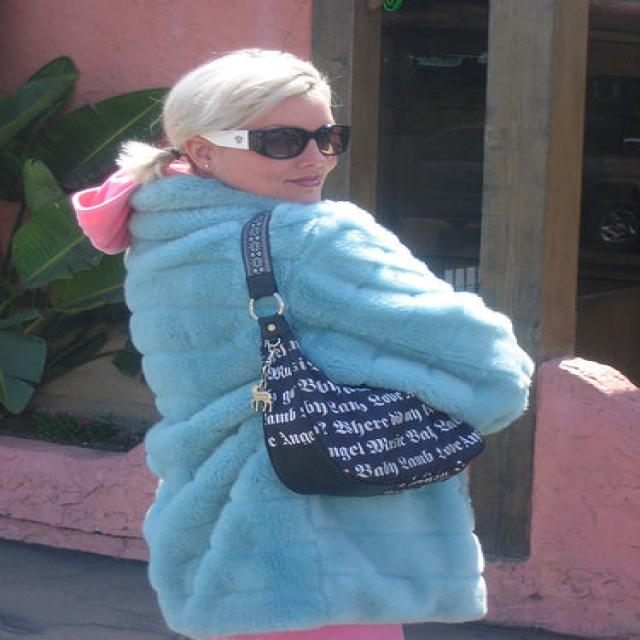person: (71, 47, 535, 640)
